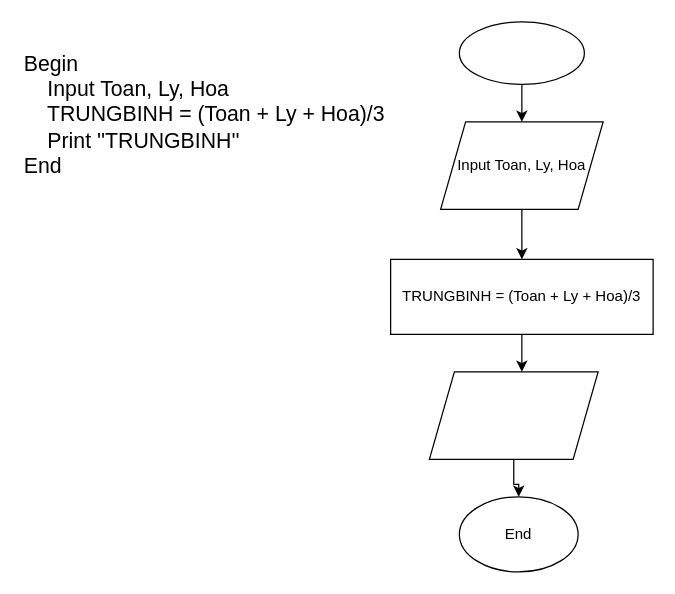
This 675x594 diagram has some shape labels left out. The shapes that lost their labels are listed below. From the top down, each one's centre as x and y in pixels, then its label:
the point at 521,52: Begin
the point at 513,415: Print TRUNGBINH
